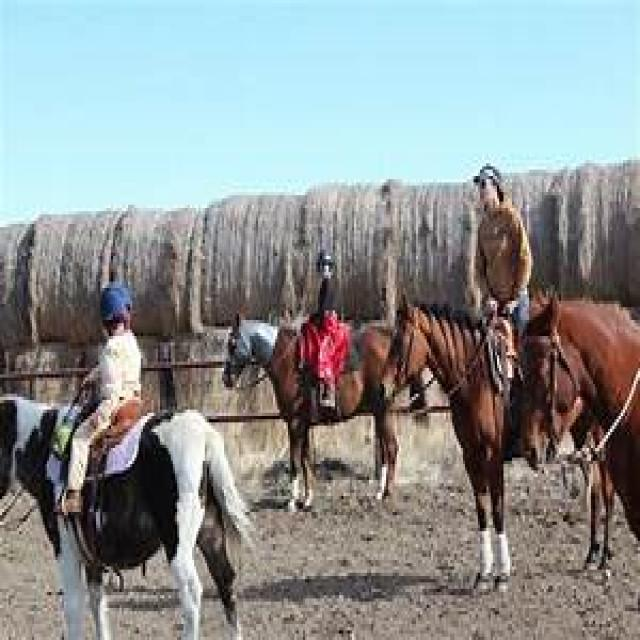horse: (0, 399, 251, 638), (224, 321, 398, 509), (520, 298, 640, 539)
